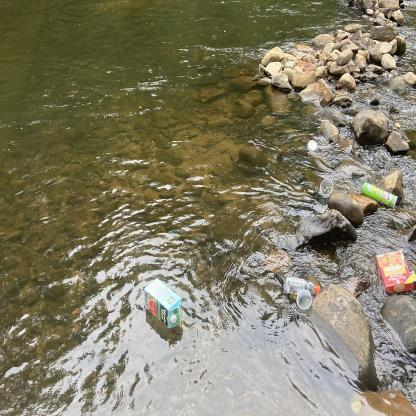trash: (138, 272, 186, 334), (373, 246, 416, 294), (360, 179, 400, 212), (279, 274, 323, 298), (294, 286, 314, 314), (318, 175, 334, 200), (305, 136, 318, 154)
